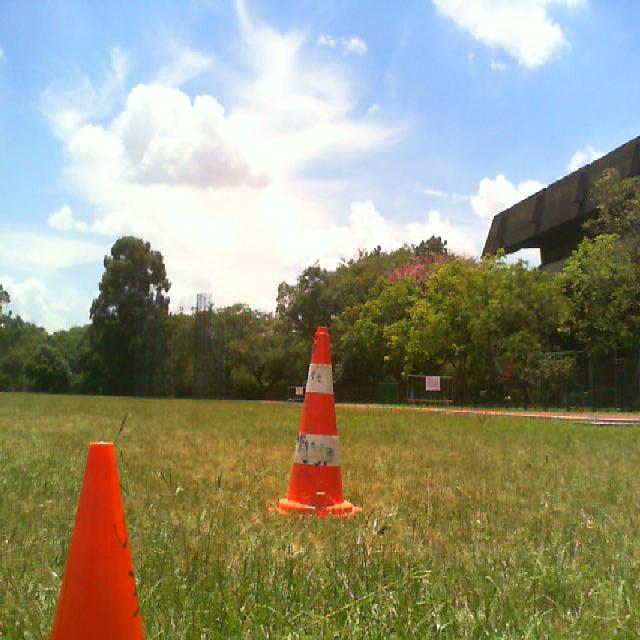cone: (50, 441, 146, 640), (273, 326, 362, 518)
